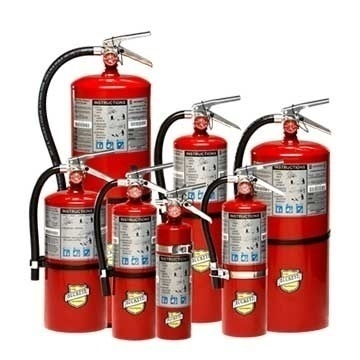fire_extinguisher: (29, 30, 154, 333), (233, 97, 333, 333), (153, 95, 242, 324)
